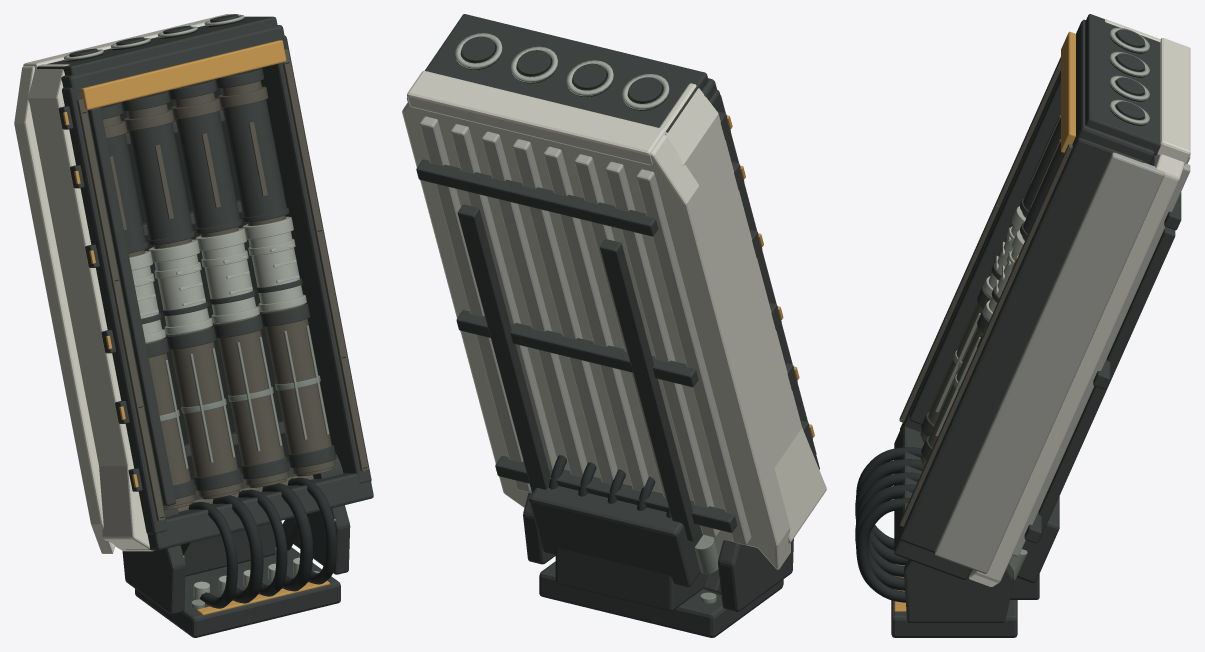
Rendered from horizontal-pods-a-assembly-v1.glb.
3 renders of one model, left to right at view 1: azimuth 30°, elevation 25°; view 2: azimuth 150°, elevation 25°; view 3: azimuth 270°, elevation 25°, orthographic. The views are drawn at different scales.
Parts seen in each view (by area): view 1: A | cassette | charcoal frame, A | cassette | brown gunmetal sleeves, A | cassette | warm ceramic armor, A | mount | charcoal frame, A | cassette | aged silver bands, A | mount | dark hose, A | cassette | ochre trim, A | cassette | dark recess, A | cassette | fasteners, A | cassette | worn armor edges, A | mount | aged silver bands, A | mount | ochre trim; view 2: A | cassette | warm ceramic armor, A | cassette | charcoal frame, A | cassette | worn armor edges, A | mount | charcoal frame, A | cassette | aged silver bands, A | mount | dark hose, A | cassette | fasteners; view 3: A | cassette | charcoal frame, A | cassette | worn armor edges, A | cassette | warm ceramic armor, A | mount | charcoal frame, A | cassette | brown gunmetal sleeves, A | mount | dark hose, A | cassette | aged silver bands, A | cassette | ochre trim, A | cassette | fasteners.
Boxes of the visible parts, x1,y1,x2,y2 form: A | cassette | charcoal frame: (37, 14, 373, 550); A | cassette | brown gunmetal sleeves: (76, 49, 368, 521); A | cassette | warm ceramic armor: (14, 14, 240, 553); A | mount | charcoal frame: (122, 453, 350, 637); A | cassette | aged silver bands: (64, 15, 306, 343); A | mount | dark hose: (188, 477, 336, 608); A | cassette | ochre trim: (63, 40, 286, 487); A | cassette | dark recess: (64, 18, 367, 518); A | cassette | fasteners: (159, 63, 365, 520); A | cassette | worn armor edges: (134, 244, 299, 316); A | mount | aged silver bands: (193, 557, 299, 599); A | mount | ochre trim: (197, 581, 329, 615); A | cassette | warm ceramic armor: (402, 71, 826, 570); A | cassette | charcoal frame: (416, 14, 819, 587); A | cassette | worn armor edges: (407, 97, 751, 545); A | mount | charcoal frame: (523, 492, 793, 637); A | cassette | aged silver bands: (455, 33, 669, 109); A | mount | dark hose: (548, 455, 671, 518); A | cassette | fasteners: (694, 535, 718, 573); A | cassette | charcoal frame: (894, 14, 1181, 582); A | cassette | worn armor edges: (935, 152, 1190, 573); A | cassette | warm ceramic armor: (969, 19, 1190, 586); A | mount | charcoal frame: (891, 560, 1039, 637); A | cassette | brown gunmetal sleeves: (899, 57, 1072, 526); A | mount | dark hose: (855, 447, 923, 602); A | cassette | aged silver bands: (983, 27, 1149, 332); A | cassette | ochre trim: (1061, 31, 1075, 152); A | cassette | fasteners: (901, 205, 1027, 580).
Size of the model in its own units: 0.9125 by 1.87 by 1.06.
